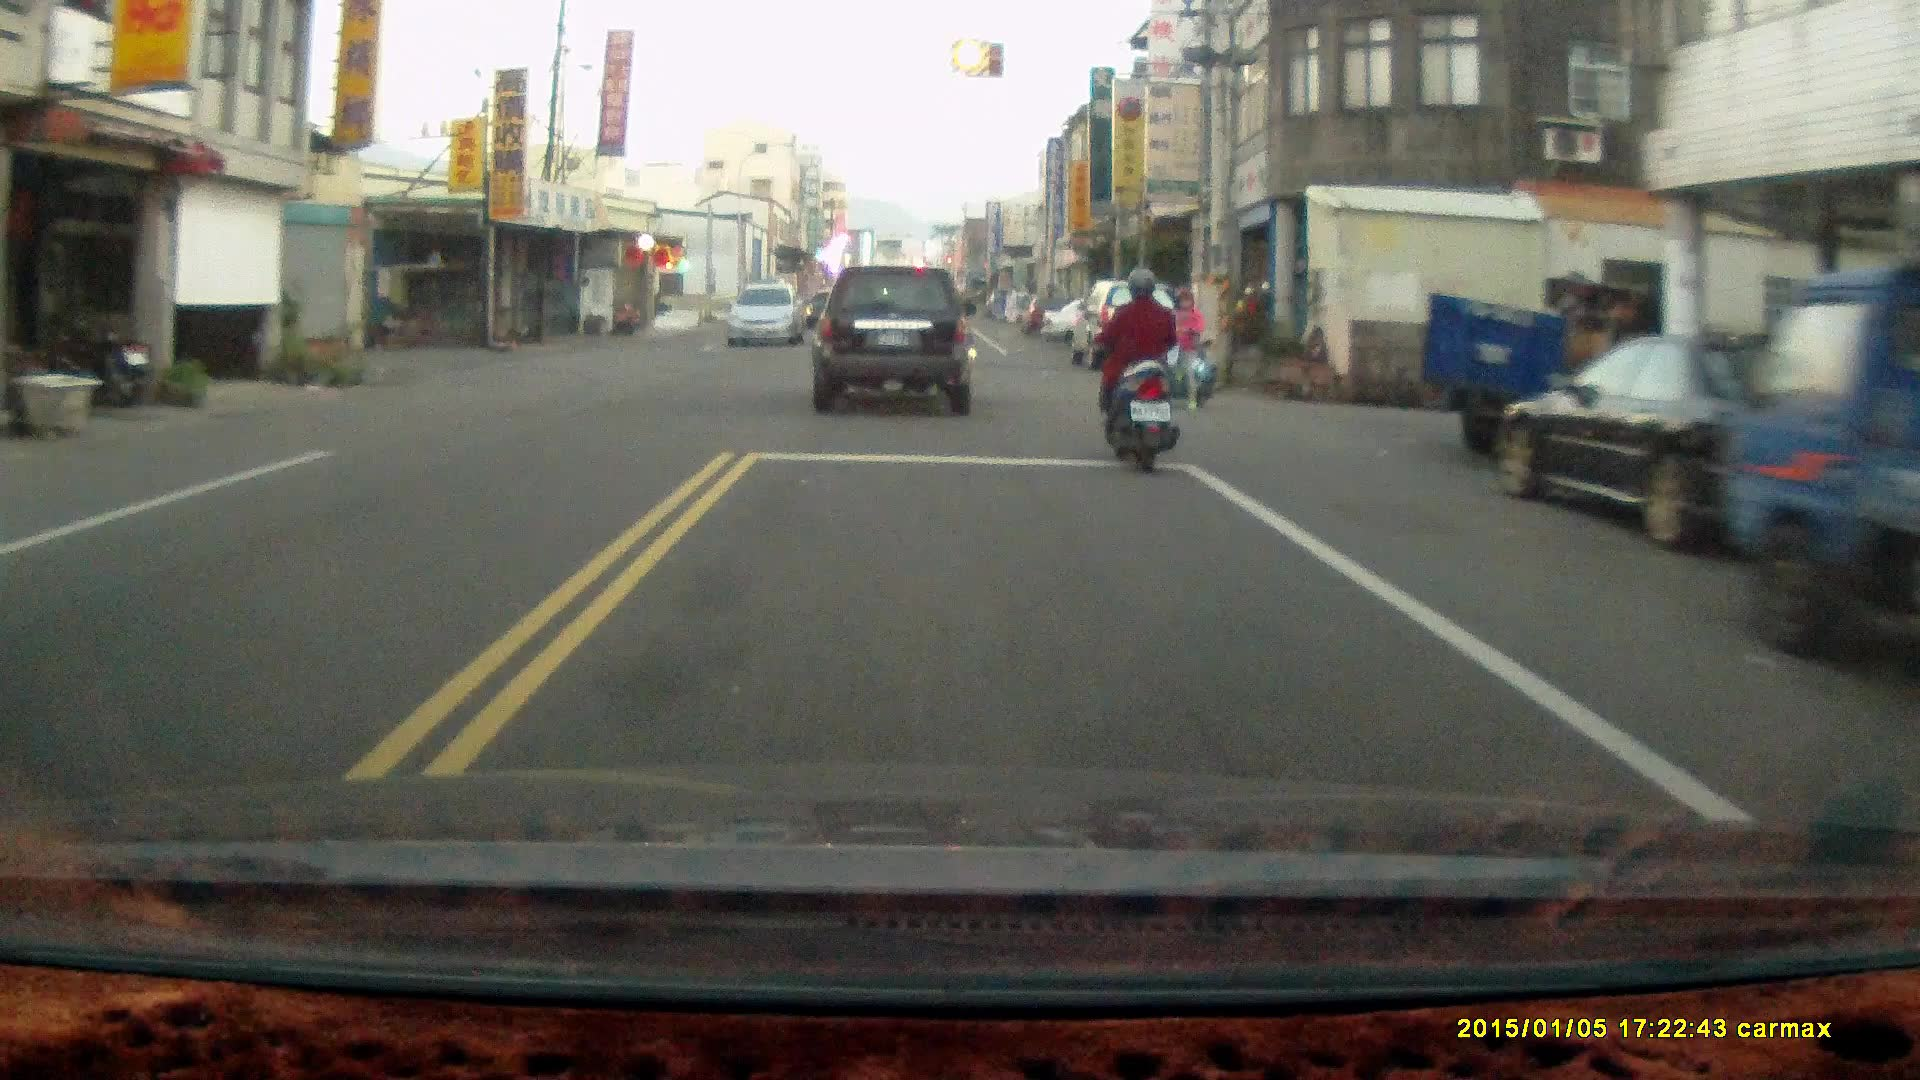rider: (1098, 264, 1177, 477), (1144, 283, 1219, 404)
vehicle: (1492, 329, 1895, 554), (1728, 266, 1920, 695), (1420, 272, 1700, 466), (809, 261, 980, 418), (1073, 281, 1187, 368), (727, 281, 809, 349)
